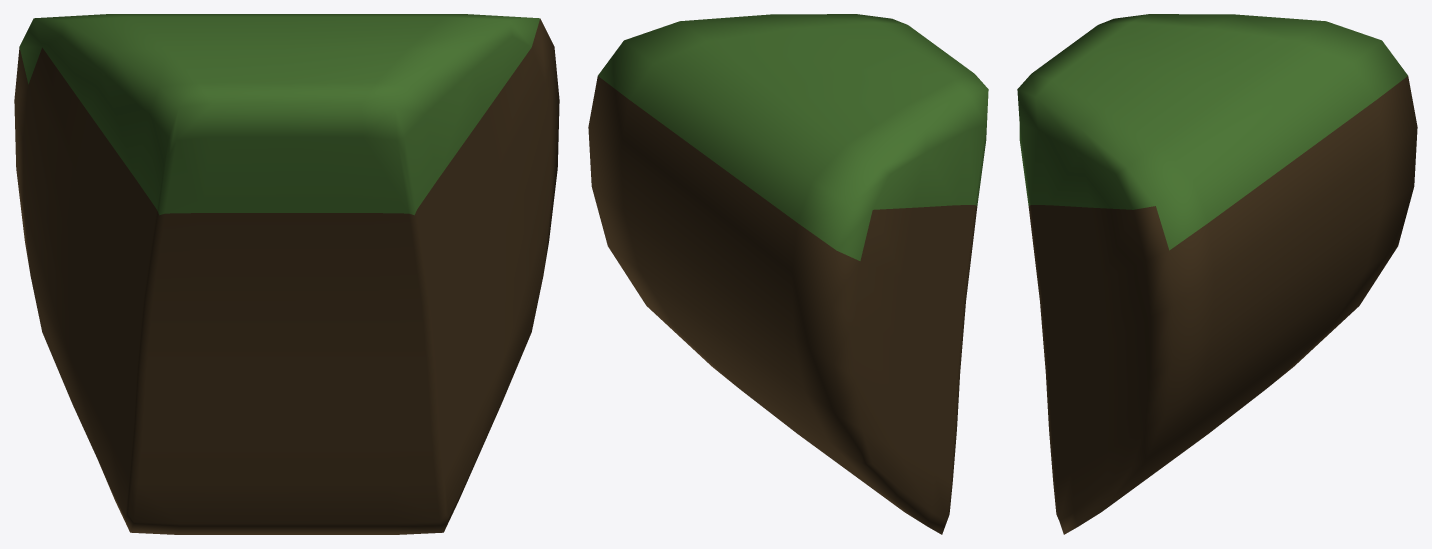
File: yan-ada.fbx
3 views of the same model, side by side, from view 1: azimuth 30°, elevation 25°; view 2: azimuth 150°, elevation 25°; view 3: azimuth 270°, elevation 25° (orthographic). The views are drawn at different scales.
Parts seen in each view (by area): view 1: ada; view 2: ada; view 3: ada.
Boxes of the visible parts, x1,y1,x2,y2 form: ada: (14, 14, 559, 534); ada: (588, 14, 988, 534); ada: (1017, 14, 1417, 534).
Size of the model in its own units: 223 by 243 by 207.
